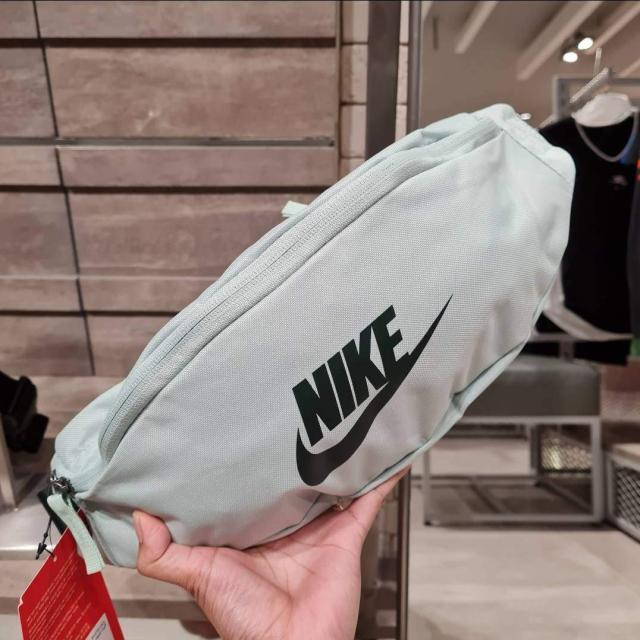handbag: (5, 96, 580, 575)
